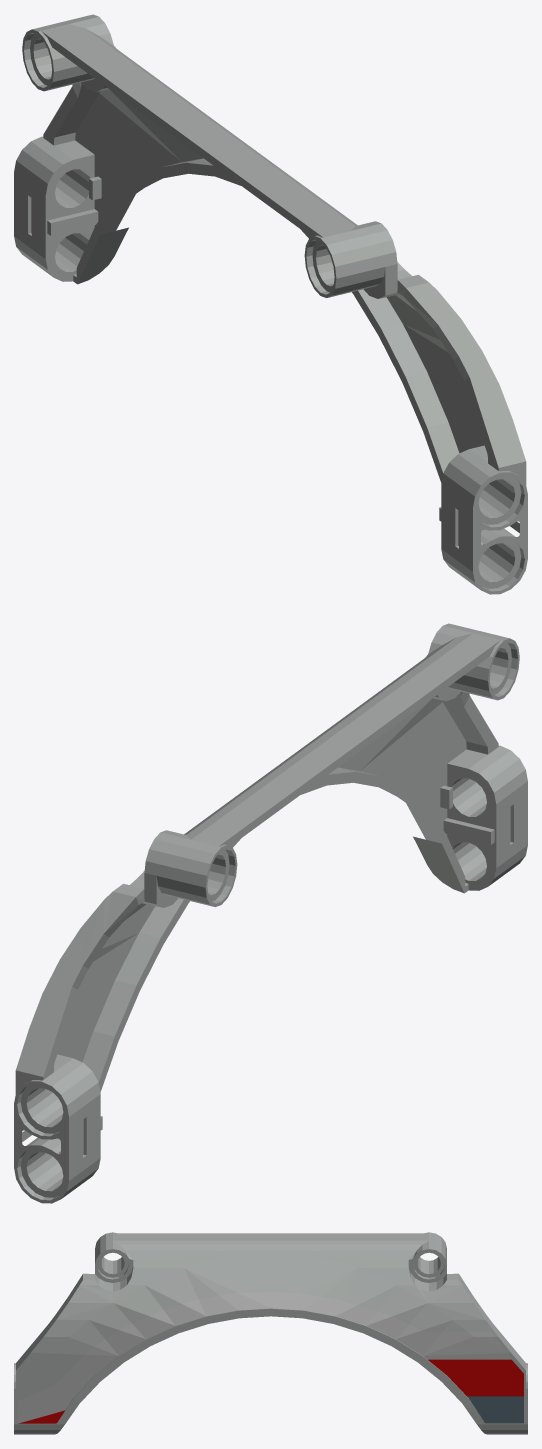
3 views of the same model, one above another, from view 1: azimuth 30°, elevation 25°; view 2: azimuth 150°, elevation 25°; view 3: azimuth 270°, elevation 25° (orthographic). The views are drawn at different scales.
Visible parts, largest first — view 1: world; view 2: world; view 3: world.
Boxes of the visible parts, x1=… form: world: x1=14, y1=14, x2=527, y2=594; world: x1=14, y1=623, x2=527, y2=1203; world: x1=14, y1=1232, x2=527, y2=1434.
Bounding box in the file's own units: 0.0158 × 0.0392 × 0.104.
